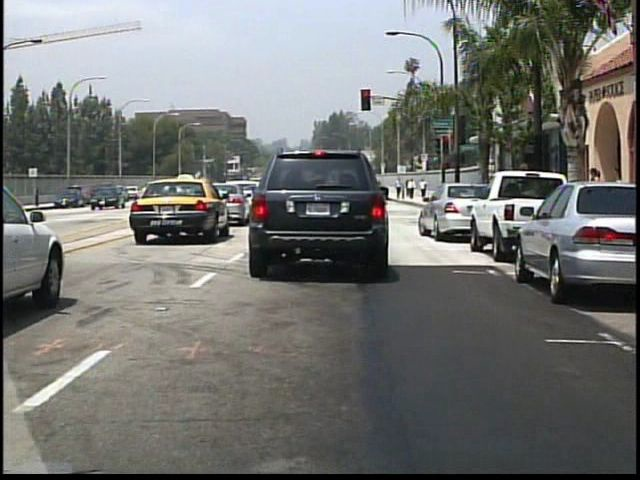person: (585, 165, 607, 231), (419, 178, 429, 200), (397, 176, 405, 199), (408, 178, 416, 201)
